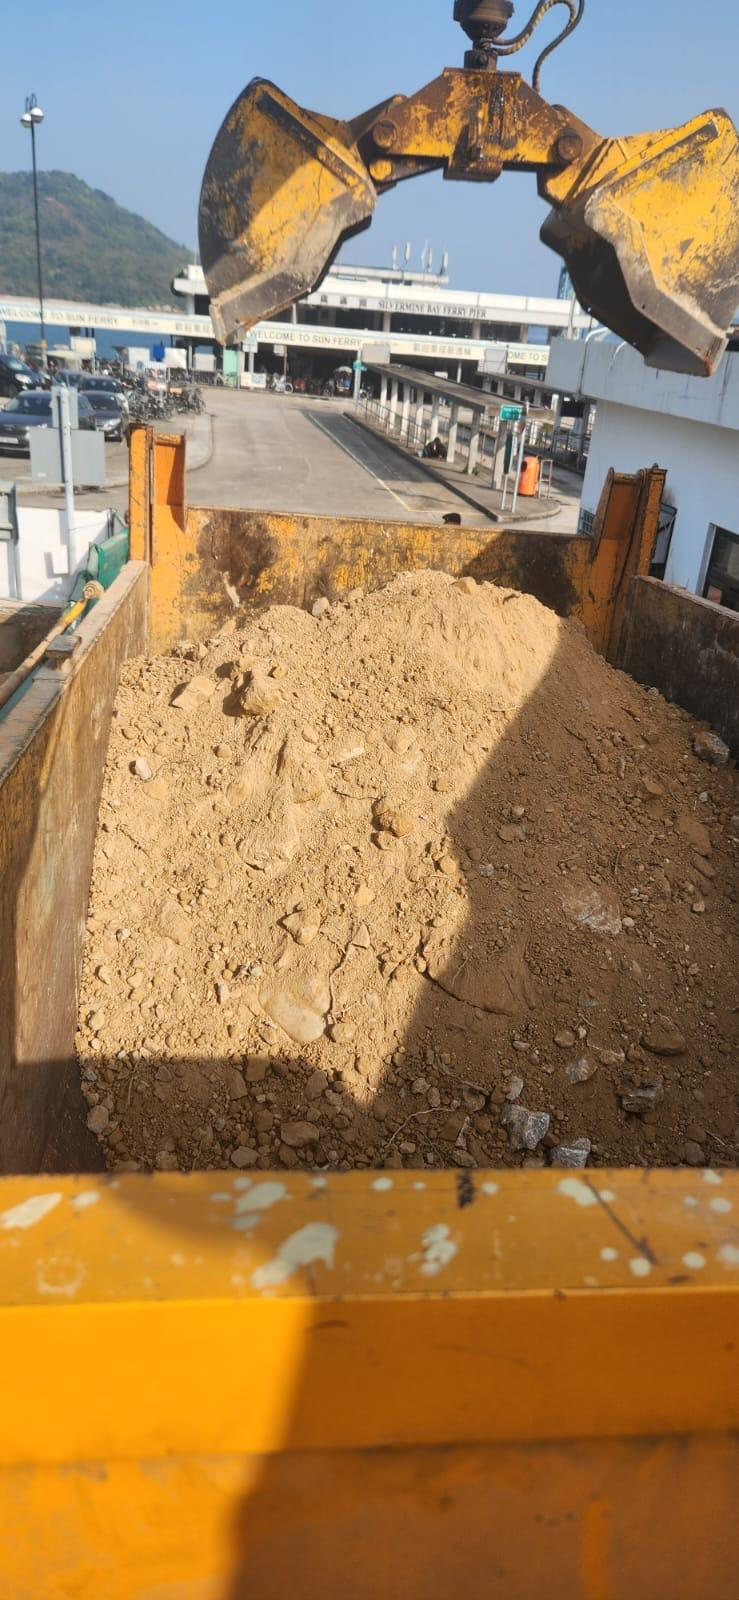dirt: (73, 564, 737, 1170)
